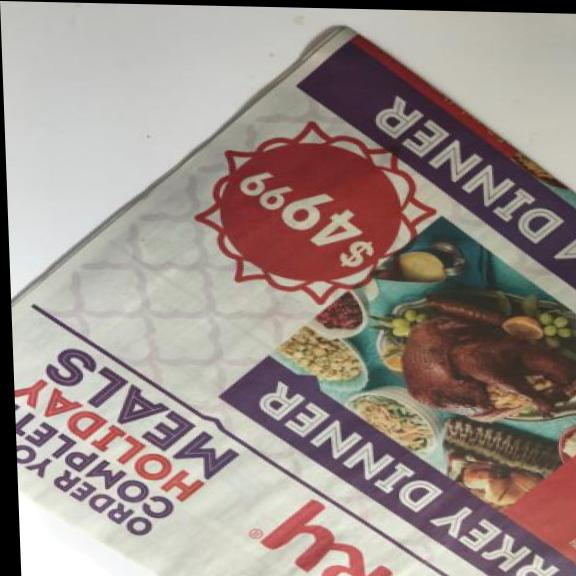Kertas: (1, 19, 576, 576)
